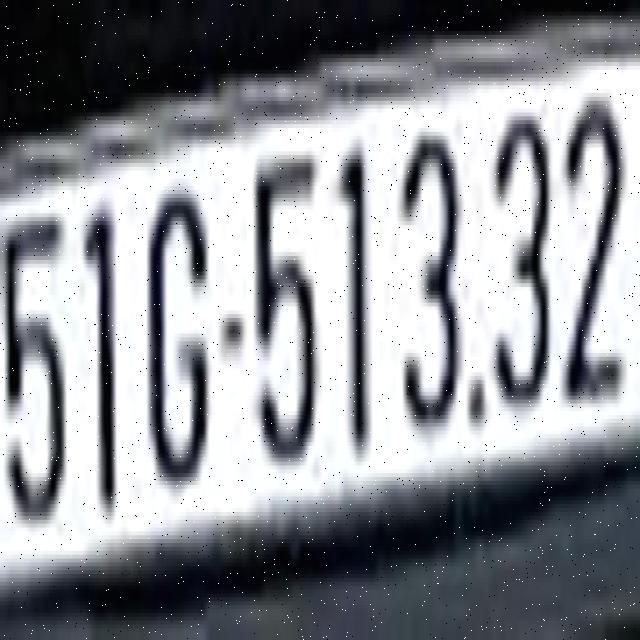1: (333, 124, 376, 466), (82, 188, 122, 522)
2: (563, 85, 626, 404)
3: (397, 109, 460, 446), (490, 89, 551, 423)
5: (252, 128, 320, 477), (4, 196, 68, 533)
G: (146, 167, 211, 496)
